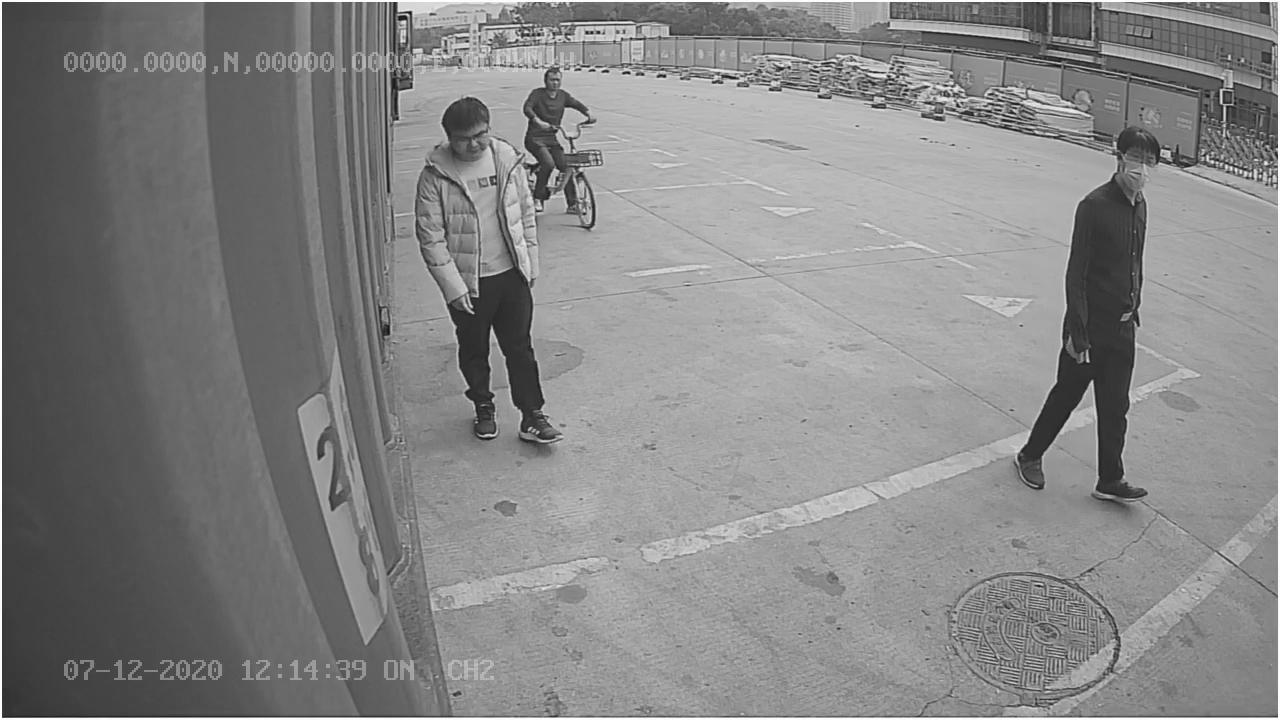person: (1012, 117, 1163, 505)
